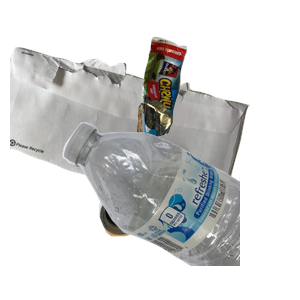glass: (96, 190, 230, 300)
paper: (10, 45, 250, 225)
plastic: (60, 120, 300, 300)
trash: (130, 34, 300, 203)
